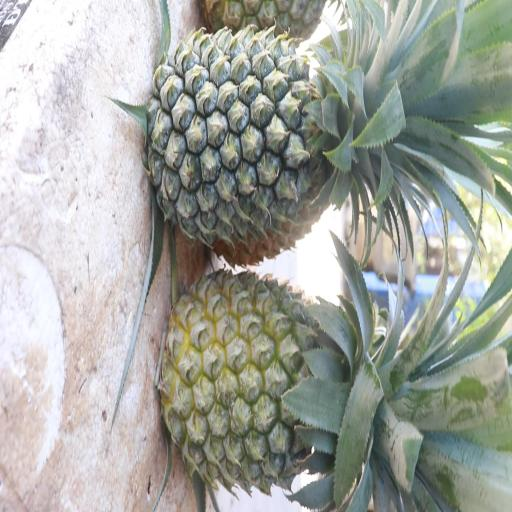------------------------------: (157, 270, 430, 493)
